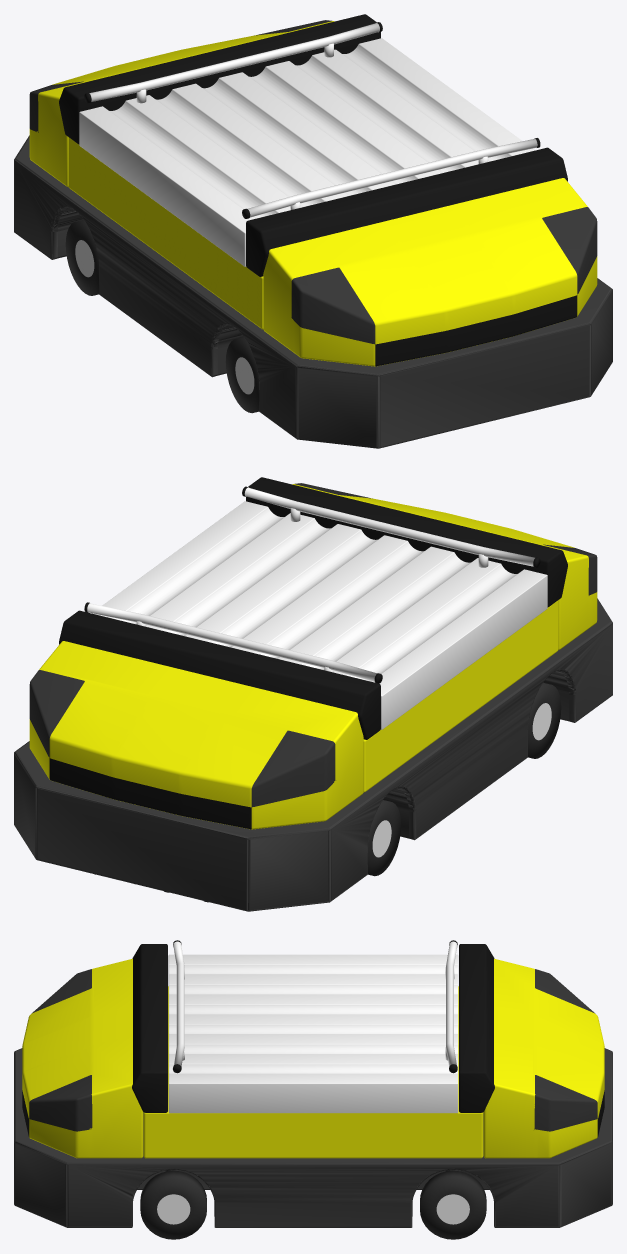
Rendered from agv.glb.
The picture shows the model from 3 angles, top to bottom: view 1: azimuth 30°, elevation 25°; view 2: azimuth 150°, elevation 25°; view 3: azimuth 270°, elevation 25°; orthographic projection. The views are drawn at different scales.
Visible parts, largest first — view 1: LoadingPlatform, Guard, Body1, Cube.005, Cube.001, Cube.006, Body2, Bar2, Bar1, RightFrontWheel, RightRearWheel; view 2: LoadingPlatform, Guard, Body2, Cube.006, Cube.001, Cube.005, Body1, Bar1, Bar2, RightRearWheel, RightFrontWheel; view 3: LoadingPlatform, Guard, Body1, Body2, Cube.001, Cube.005, Cube.006, LeftRearWheel, LeftFrontWheel, Bar1, Bar2.
Boxes of the visible parts, x1,y1,x2,y2 form: LoadingPlatform: (79, 38, 535, 266); Guard: (14, 135, 612, 448); Body1: (263, 178, 597, 366); Cube.005: (246, 147, 567, 276); Cube.001: (68, 137, 263, 329); Cube.006: (59, 14, 380, 144); Body2: (29, 20, 334, 186); Bar2: (84, 22, 382, 103); Bar1: (242, 138, 540, 218); RightFrontWheel: (225, 337, 259, 413); RightRearWheel: (65, 219, 98, 295); LoadingPlatform: (91, 501, 547, 729); Guard: (14, 598, 612, 911); Body2: (29, 641, 363, 829); Cube.006: (59, 610, 380, 739); Cube.001: (363, 600, 558, 792); Cube.005: (246, 477, 567, 607); Body1: (292, 483, 597, 649); Bar1: (242, 486, 540, 567); Bar2: (84, 602, 382, 683); RightRearWheel: (367, 800, 401, 876); RightFrontWheel: (528, 682, 561, 758); LoadingPlatform: (168, 954, 458, 1113); Guard: (14, 1048, 612, 1227); Body1: (22, 958, 143, 1158); Body2: (483, 958, 604, 1158); Cube.001: (143, 986, 483, 1158); Cube.005: (132, 944, 167, 1112); Cube.006: (459, 944, 494, 1112); LeftRearWheel: (420, 1170, 486, 1239); LeftFrontWheel: (140, 1170, 206, 1239); Bar1: (173, 940, 184, 1073); Bar2: (445, 940, 457, 1073).
Bounding box in the file's own units: 0.8 × 0.4797 × 1.5.
